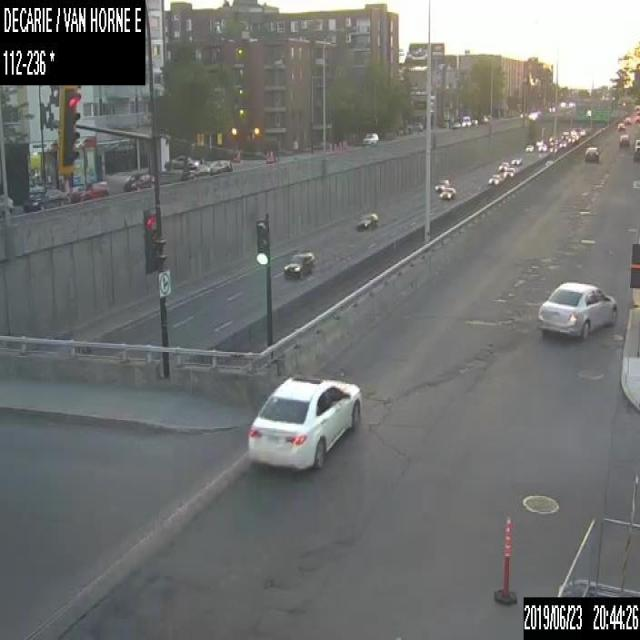construction: (492, 515, 520, 604)
vehicle: (246, 373, 363, 471), (536, 278, 618, 338), (22, 187, 65, 210), (282, 250, 313, 278), (69, 179, 108, 200), (123, 170, 152, 191), (164, 153, 198, 170), (356, 212, 378, 231), (205, 157, 231, 173), (0, 192, 14, 215), (584, 145, 598, 160), (361, 132, 378, 144), (440, 186, 455, 199), (434, 179, 449, 191), (632, 139, 639, 160), (618, 134, 629, 146), (488, 174, 501, 184), (461, 115, 470, 126), (511, 156, 522, 165), (504, 167, 514, 176), (498, 162, 509, 170), (559, 139, 568, 148), (524, 143, 533, 152), (538, 143, 546, 151), (617, 121, 624, 130), (536, 138, 542, 145), (624, 117, 630, 123)
